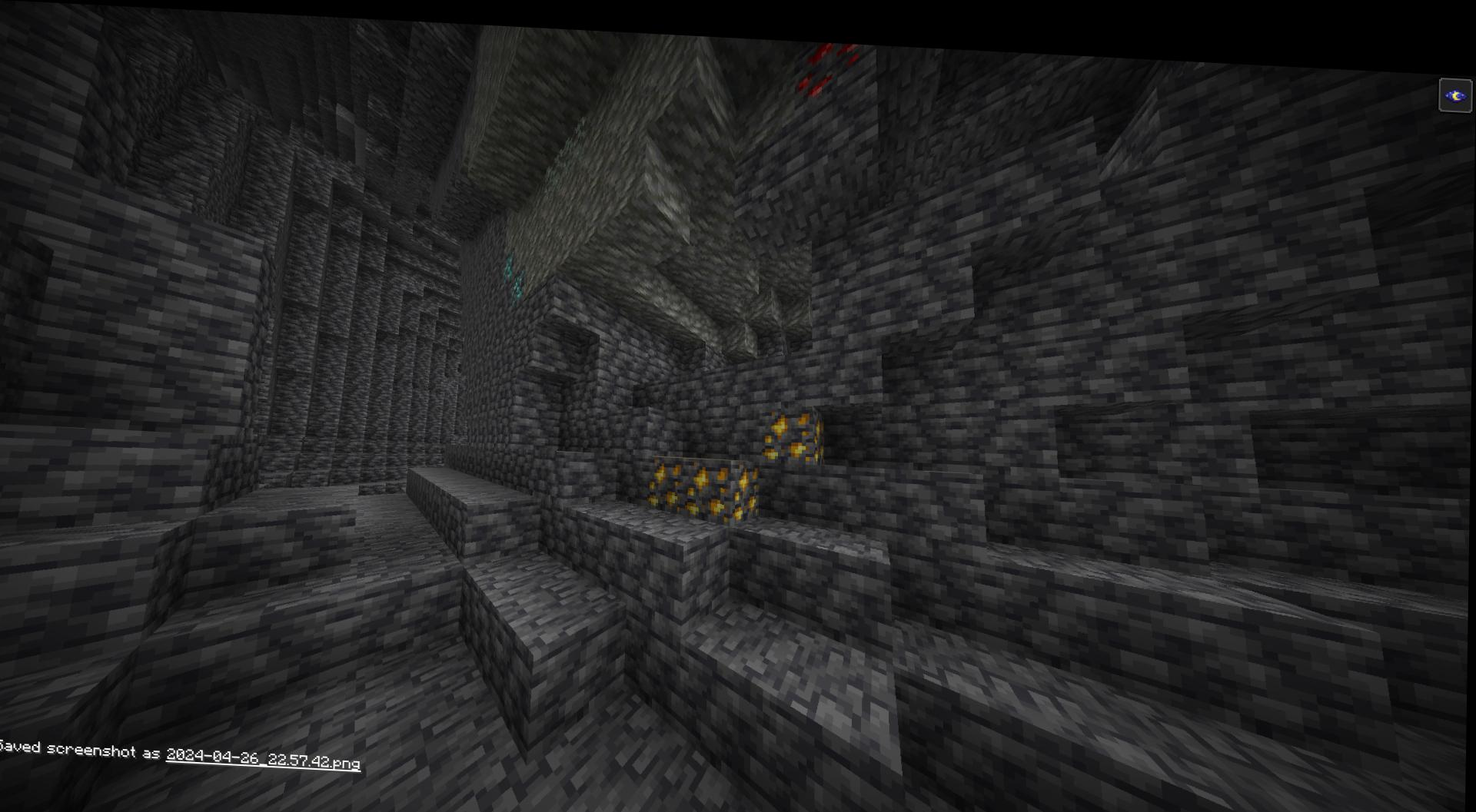diamond ore: (503, 248, 528, 298)
gold ore: (695, 454, 768, 512), (766, 402, 823, 454), (648, 447, 694, 506)
redstone ore: (799, 33, 873, 95)
